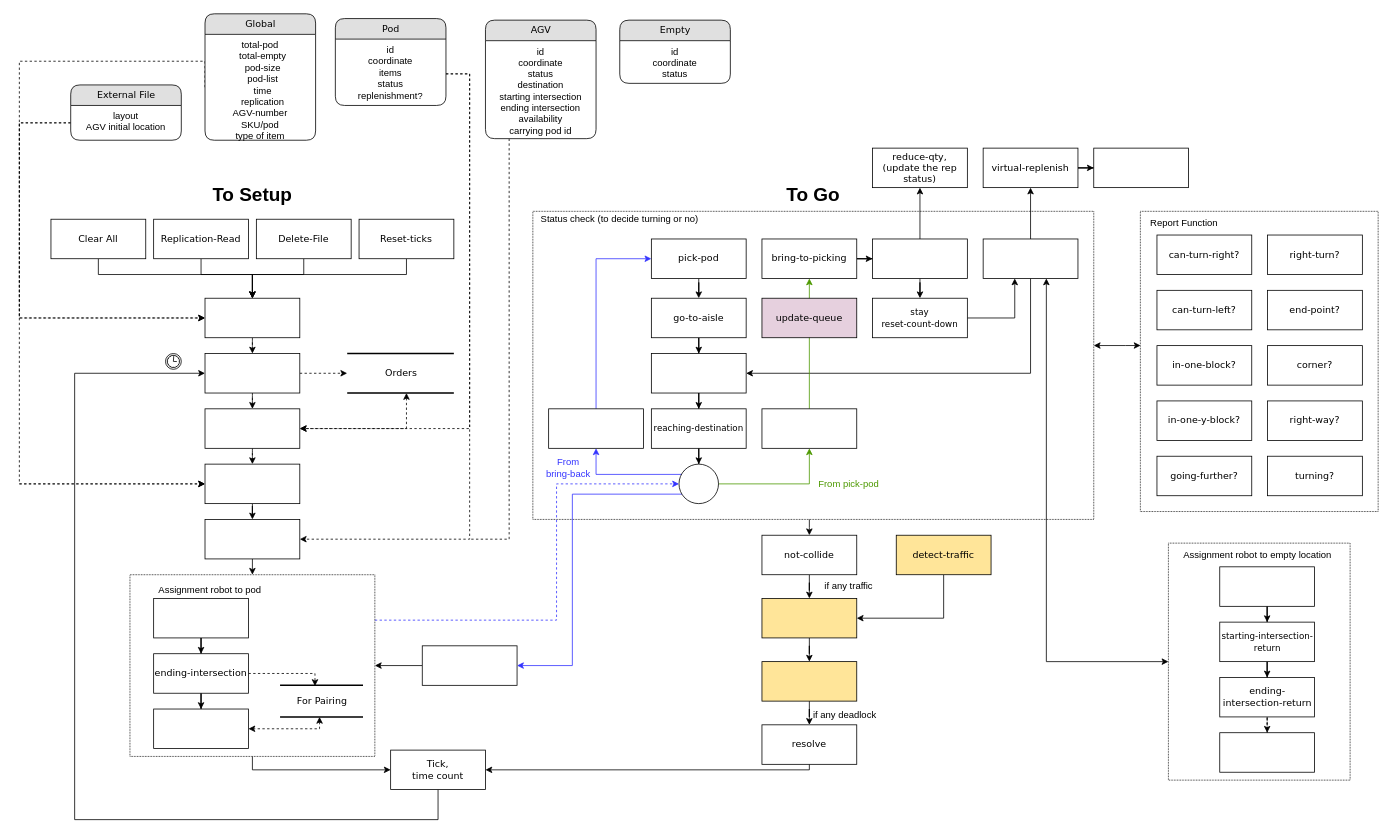
Image size: 1392x840. Some labels were removed from this diagram. The centre of each missing label's shape, as x and y in pixels:
"Assign Order to Pod" belongs at point 252,428.
"Assigning" belongs at point 200,728.
"Assigning empty" belongs at point 1267,752.
"bring-back" belongs at point 1030,258.
"Generate Order" belongs at point 252,373.
"lead time count down" belongs at point 1141,167.
"on-the-way" belongs at point 698,373.
"pair-empty-loc" belongs at point 1267,586.
"pair-next" belongs at point 469,665.
"pair-pick-pod" belongs at point 252,539.
"Place AGV" belongs at point 252,483.
"previously-moving?" belongs at point 809,681.
"queuing" belongs at point 919,258.
"Set Layout, place item" belongs at point 252,317.
"starting-intersection" belongs at point 200,618.
"switch-empty" belongs at point 809,428.
"switch-pod" belongs at point 595,428.
"towards-traffic?" belongs at point 809,618.
